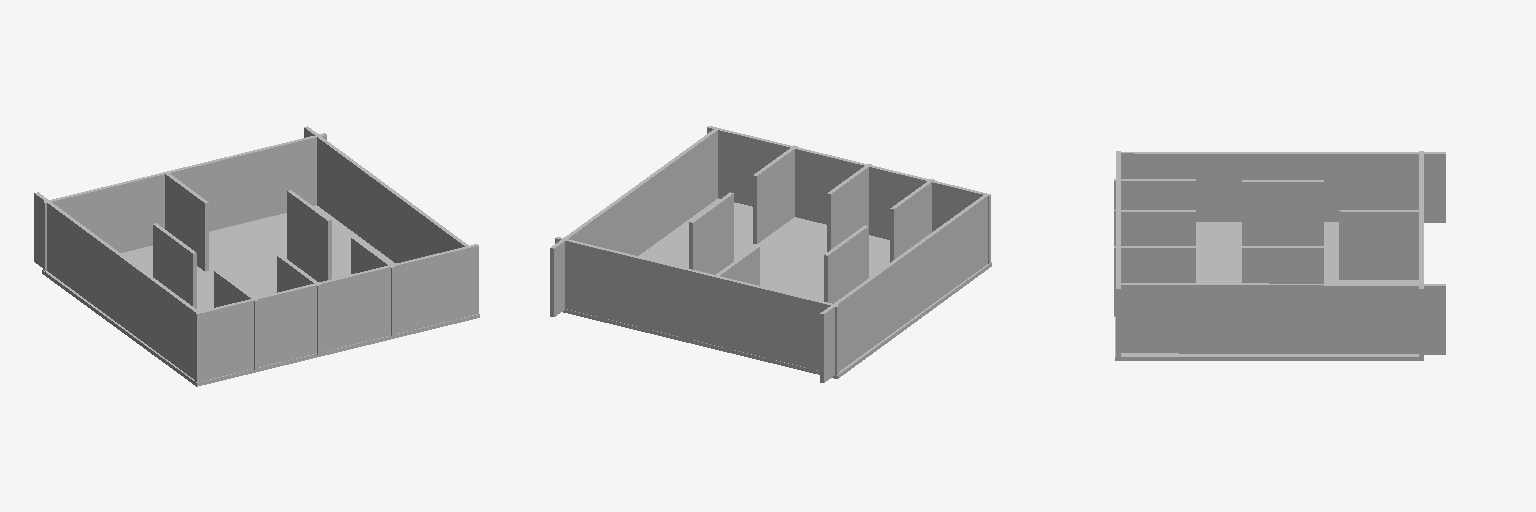
Rendered from maze2.obj.
3 views of the same model, side by side, from view 1: azimuth 30°, elevation 25°; view 2: azimuth 150°, elevation 25°; view 3: azimuth 270°, elevation 25° (orthographic).
Visible parts, largest first — view 1: pCube2, pCube3, pCube5, pCube1, pCube4, pCube7, pCube11, pCube6, pCube8, pCube9, pCube10; view 2: pCube3, pCube5, pCube2, pCube4, pCube1, pCube8, pCube7, pCube10, pCube6, pCube9, pCube11; view 3: pCube4, pCube5, pCube1, pCube11, pCube6, pCube7, pCube8, pCube10, pCube9, pCube3, pCube2.
Boxes of the visible parts, box(x1,y1,x2,y2) form: pCube2: box(195, 244, 478, 382); pCube3: box(43, 133, 326, 271); pCube5: box(34, 192, 198, 379); pCube1: box(42, 205, 479, 386); pCube4: box(304, 126, 468, 262); pCube7: box(287, 190, 331, 281); pCube11: box(165, 173, 208, 271); pCube6: box(153, 223, 196, 308); pCube8: box(351, 237, 395, 335); pCube9: box(214, 270, 258, 369); pCube10: box(277, 255, 321, 354); pCube3: box(555, 237, 838, 374); pCube5: box(820, 195, 987, 382); pCube2: box(707, 126, 990, 263); pCube4: box(550, 129, 717, 316); pCube1: box(563, 198, 991, 378); pCube8: box(753, 145, 797, 243); pCube7: box(689, 192, 733, 274); pCube10: box(827, 164, 871, 251); pCube6: box(824, 225, 868, 303); pCube9: box(890, 179, 934, 262); pCube11: box(715, 246, 759, 285); pCube4: box(1120, 283, 1445, 354); pCube5: box(1120, 152, 1445, 222); pCube1: box(1115, 222, 1423, 360); pCube11: box(1339, 210, 1418, 279); pCube6: box(1242, 180, 1323, 245); pCube7: box(1242, 246, 1323, 283); pCube8: box(1114, 246, 1195, 316); pCube10: box(1114, 210, 1195, 245); pCube9: box(1114, 179, 1195, 209); pCube3: box(1419, 151, 1423, 356); pCube2: box(1116, 151, 1120, 356).
Bounding box in the file's own units: 48.19 × 11.72 × 48.88.